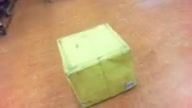cube: (56, 23, 137, 108)
